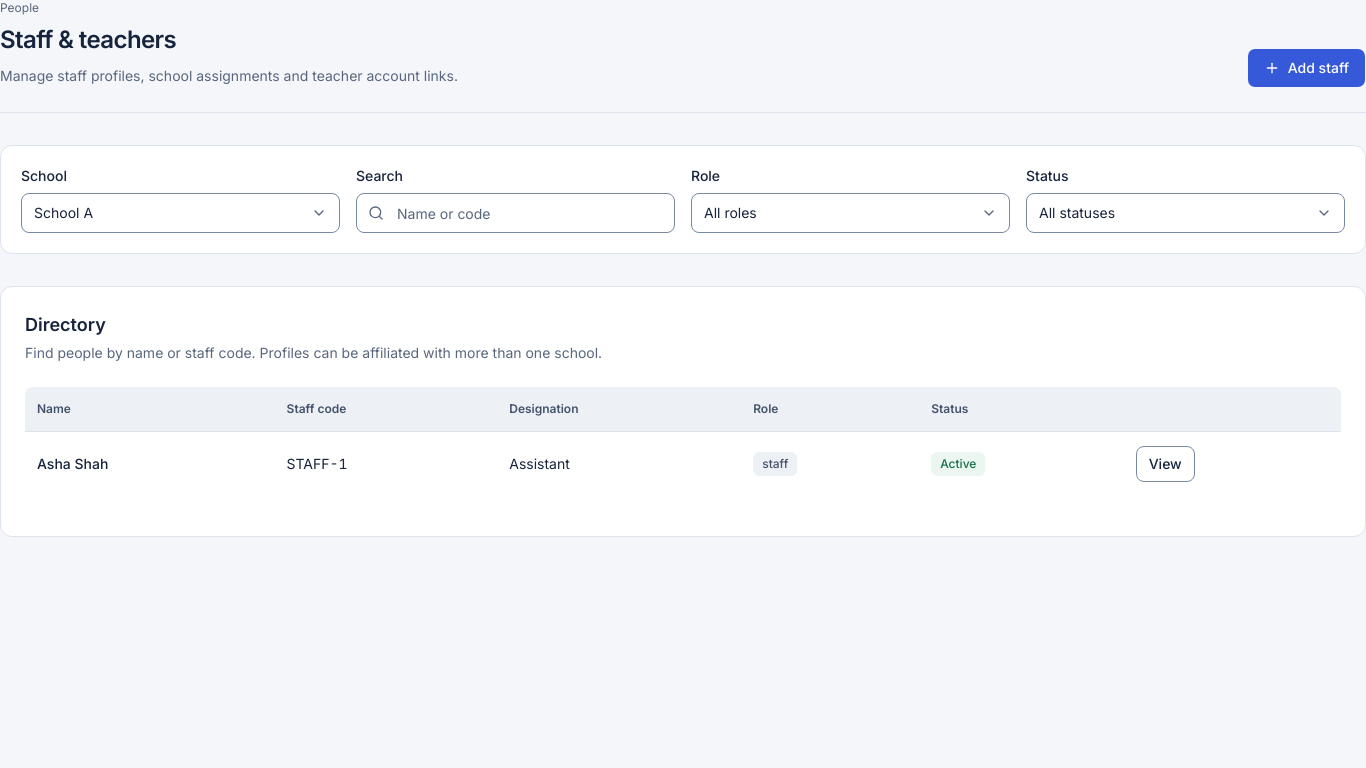
Test: staff directory interactions › allows a school manager to promote an existing staff affiliation to teacher
Click the button with aria-label "View Asha Shah profile": (1165, 464) 1136,446 -> 1195,482
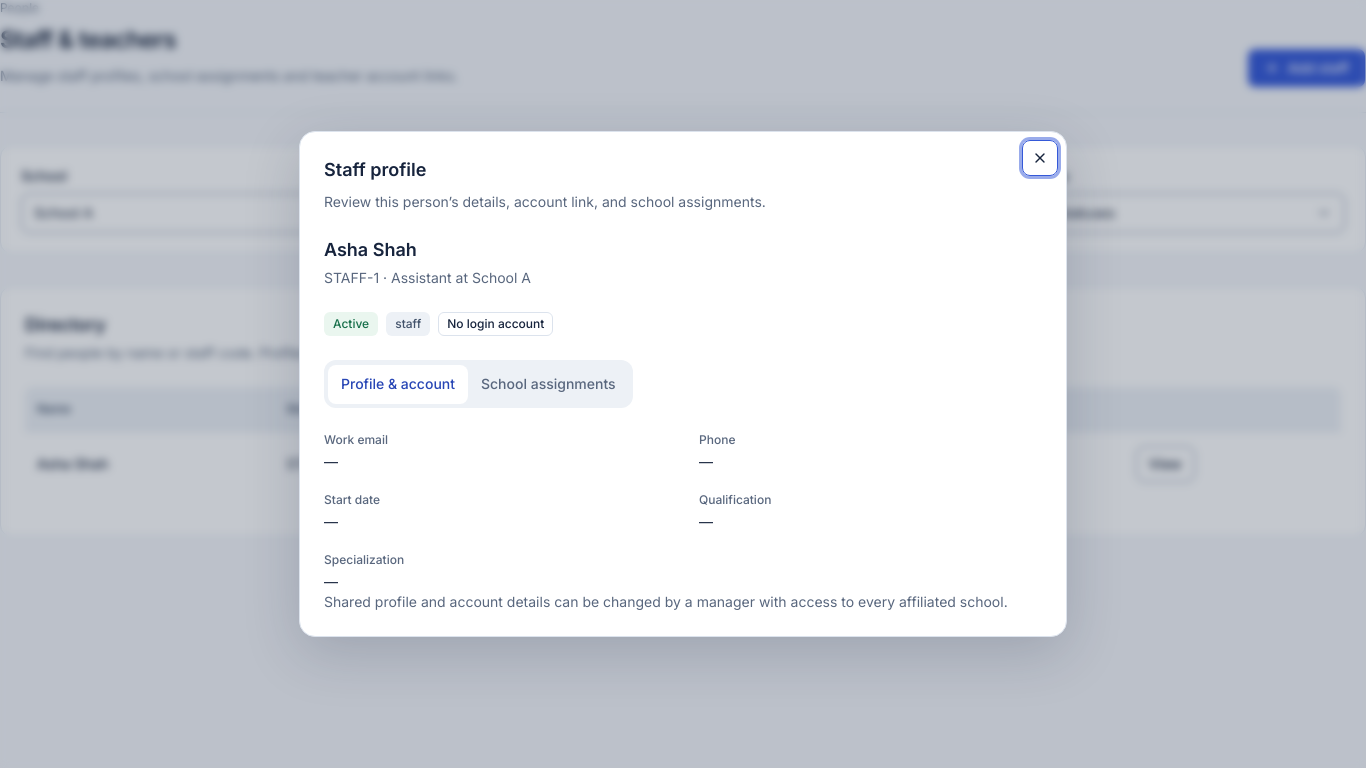
Click the tab "School assignments": (548, 384) 468,364 -> 629,404
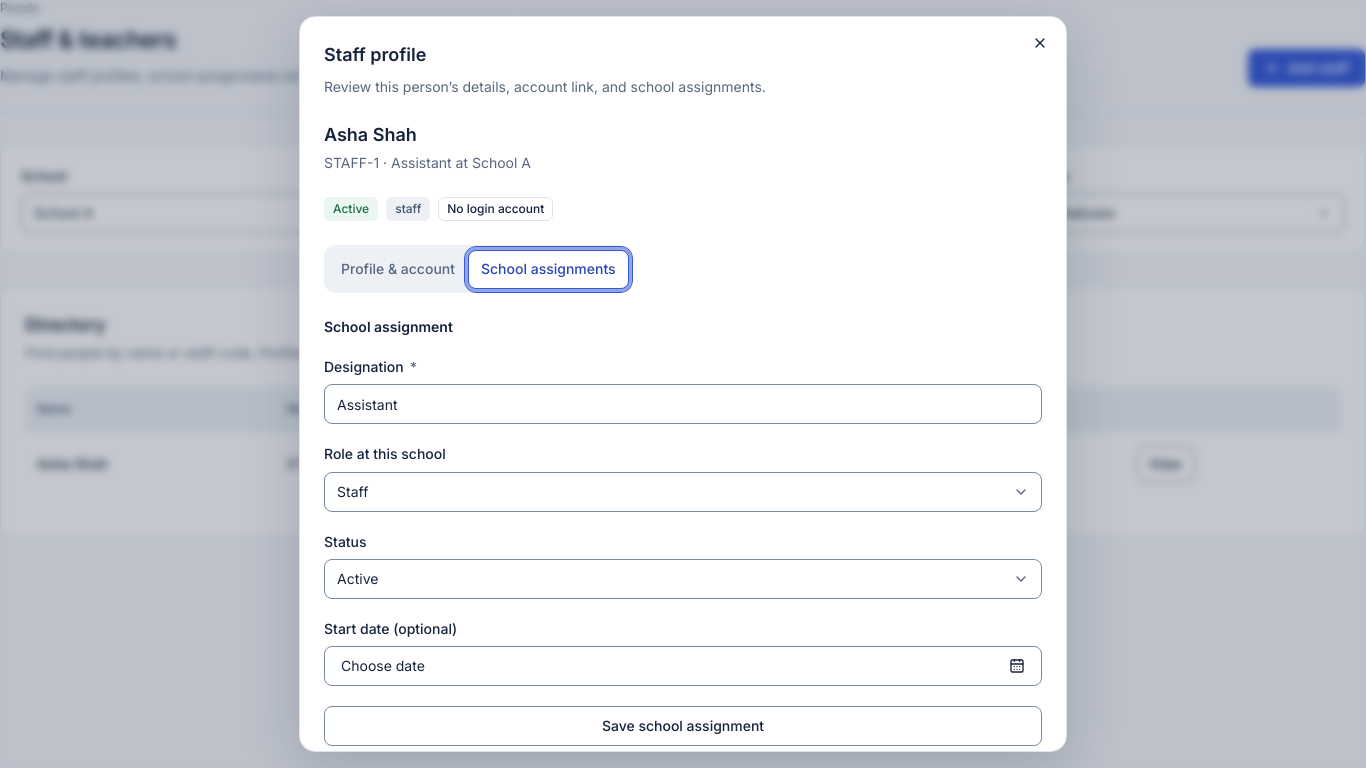
Check: the dropdown named "Role at this school" is shown, box 324,472 -> 1042,512
